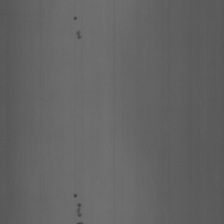oil_spot: (71, 188, 86, 224), (72, 11, 85, 47)
